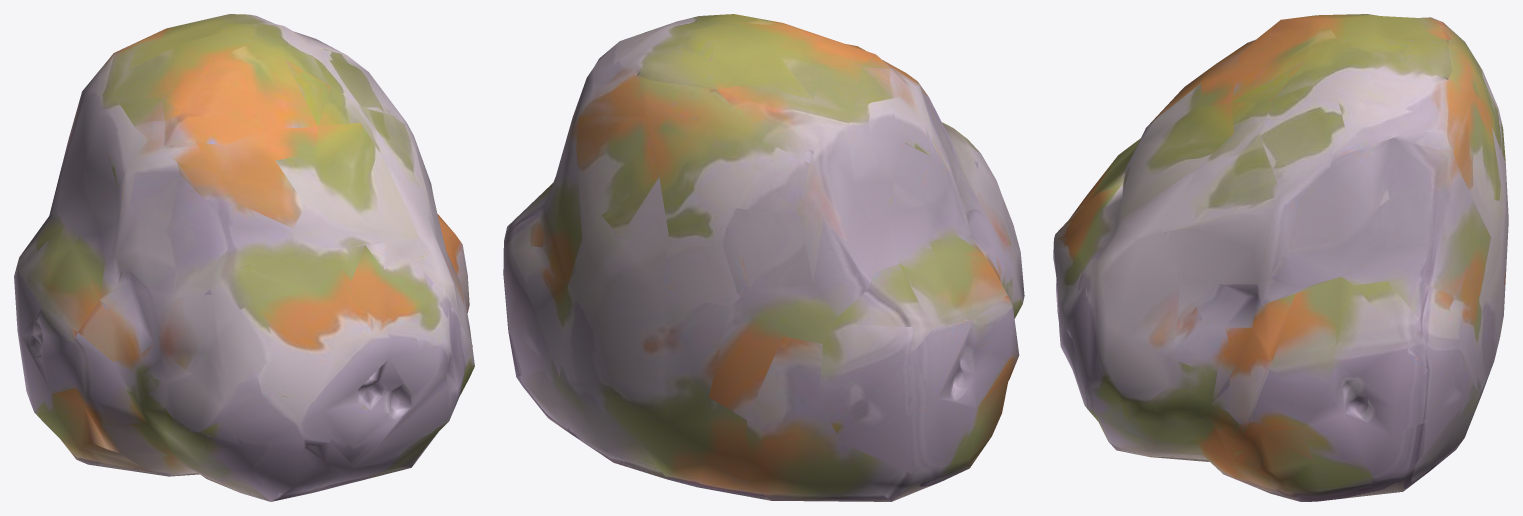
Rendered from rock_a.glb.
3 views of the same model, side by side, from view 1: azimuth 30°, elevation 25°; view 2: azimuth 150°, elevation 25°; view 3: azimuth 270°, elevation 25° (orthographic). The views are drawn at different scales.
Visible parts, largest first — view 1: rock_a; view 2: rock_a; view 3: rock_a.
Boxes of the visible parts, left/top/right/bottom form: rock_a: left=14, top=14, right=474, bottom=501; rock_a: left=503, top=14, right=1024, bottom=501; rock_a: left=1053, top=14, right=1508, bottom=501.
Bounding box in the file's own units: 1.91 × 1.7 × 1.83.
Materials: 1 (1 with a texture image).
